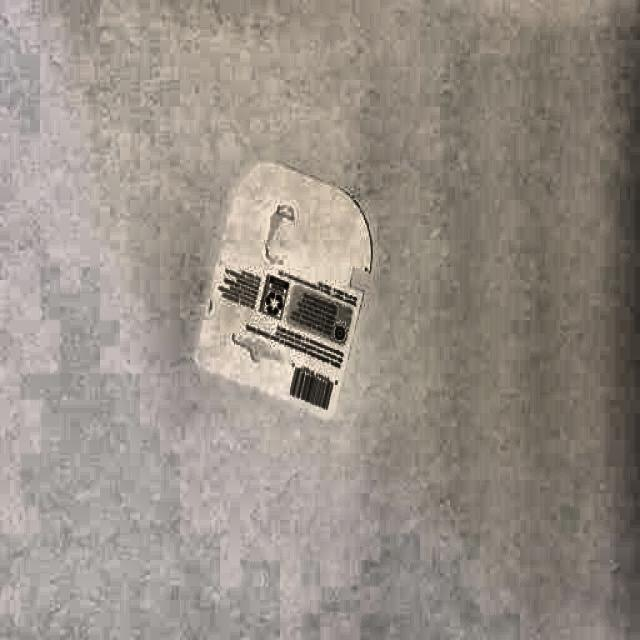paper: (196, 159, 370, 416)
